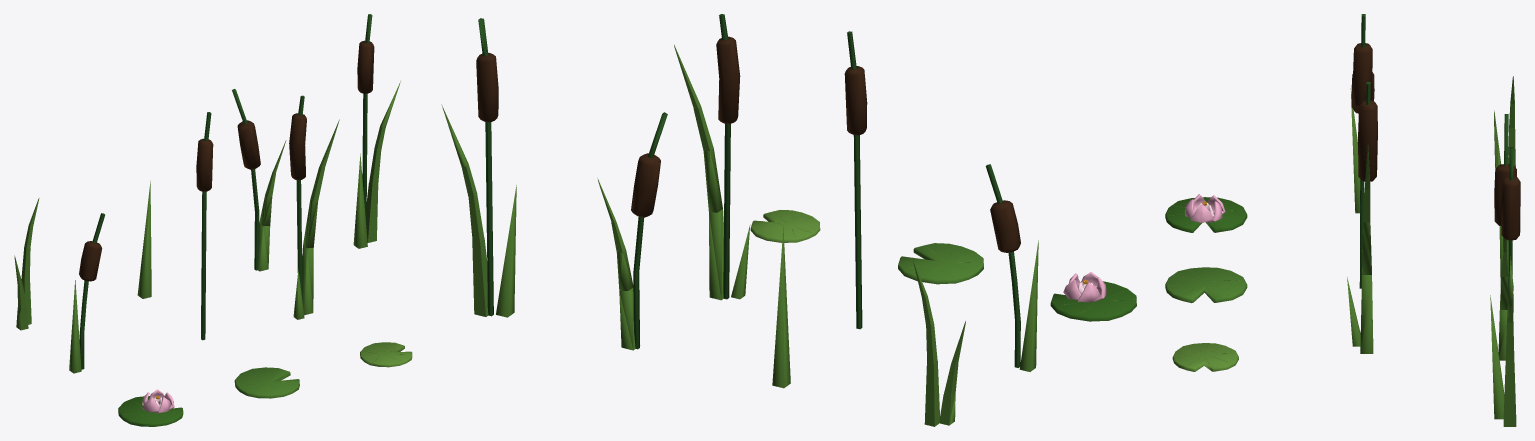
Rendered from pond_pack-mjsi-7jK.glb.
3 views of the same model, side by side, from view 1: azimuth 30°, elevation 25°; view 2: azimuth 150°, elevation 25°; view 3: azimuth 270°, elevation 25° (orthographic). The views are drawn at different scales.
Visible parts, largest first — view 1: Grass_Cattail.003_0 Universal_0, Grass_Cattail.002_0 Universal_0, Grass_Cattail.001_0 Universal_0, Grass_Cattail.005_0 Universal_0, Water Lily.001_0 Universal_0, Grass_Cattail.004_0 Universal_0, Water Lily.002_0 Universal_0, Grass_Cattail.007_0 Universal_0, Water Lily.003_0 Universal_0, Grass_Cattail.006_0 Universal_0; view 2: Grass_Cattail.003_0 Universal_0, Grass_Cattail.002_0 Universal_0, Grass_Cattail.001_0 Universal_0, Grass_Cattail.005_0 Universal_0, Water Lily.001_0 Universal_0, Grass_Cattail.004_0 Universal_0, Water Lily.002_0 Universal_0, Grass_Cattail.007_0 Universal_0, Water Lily.003_0 Universal_0, Grass_Cattail.006_0 Universal_0; view 3: Grass_Cattail.003_0 Universal_0, Grass_Cattail.002_0 Universal_0, Water Lily.002_0 Universal_0, Water Lily.001_0 Universal_0, Grass_Cattail.001_0 Universal_0, Grass_Cattail.004_0 Universal_0, Water Lily.003_0 Universal_0, Grass_Cattail.005_0 Universal_0, Grass_Cattail.007_0 Universal_0.
Boxes of the visible parts, bbox=[...] form: Grass_Cattail.003_0 Universal_0: bbox=[289, 95, 339, 319]; Grass_Cattail.002_0 Universal_0: bbox=[353, 14, 400, 248]; Grass_Cattail.001_0 Universal_0: bbox=[232, 89, 286, 271]; Grass_Cattail.005_0 Universal_0: bbox=[69, 213, 104, 373]; Water Lily.001_0 Universal_0: bbox=[118, 389, 183, 426]; Grass_Cattail.004_0 Universal_0: bbox=[196, 112, 213, 340]; Water Lily.002_0 Universal_0: bbox=[234, 367, 299, 398]; Grass_Cattail.007_0 Universal_0: bbox=[14, 198, 39, 330]; Water Lily.003_0 Universal_0: bbox=[360, 342, 412, 367]; Grass_Cattail.006_0 Universal_0: bbox=[137, 181, 151, 298]; Grass_Cattail.003_0 Universal_0: bbox=[674, 14, 750, 300]; Grass_Cattail.002_0 Universal_0: bbox=[441, 18, 516, 317]; Grass_Cattail.001_0 Universal_0: bbox=[597, 112, 667, 350]; Grass_Cattail.005_0 Universal_0: bbox=[985, 164, 1038, 371]; Water Lily.001_0 Universal_0: bbox=[1050, 272, 1136, 321]; Grass_Cattail.004_0 Universal_0: bbox=[844, 31, 867, 329]; Water Lily.002_0 Universal_0: bbox=[898, 243, 983, 284]; Grass_Cattail.007_0 Universal_0: bbox=[913, 260, 965, 426]; Water Lily.003_0 Universal_0: bbox=[750, 210, 820, 242]; Grass_Cattail.006_0 Universal_0: bbox=[772, 226, 790, 388]; Grass_Cattail.003_0 Universal_0: bbox=[1347, 82, 1377, 353]; Grass_Cattail.002_0 Universal_0: bbox=[1490, 147, 1520, 426]; Water Lily.002_0 Universal_0: bbox=[1165, 267, 1247, 303]; Water Lily.001_0 Universal_0: bbox=[1165, 194, 1247, 232]; Grass_Cattail.001_0 Universal_0: bbox=[1494, 114, 1516, 360]; Grass_Cattail.004_0 Universal_0: bbox=[1353, 14, 1372, 288]; Water Lily.003_0 Universal_0: bbox=[1172, 343, 1238, 371]; Grass_Cattail.005_0 Universal_0: bbox=[1350, 72, 1374, 213]; Grass_Cattail.007_0 Universal_0: bbox=[1494, 76, 1515, 168].
Size of the model in its own units: 2.92 by 1.56 by 1.81.
1 material, 1 textured.
